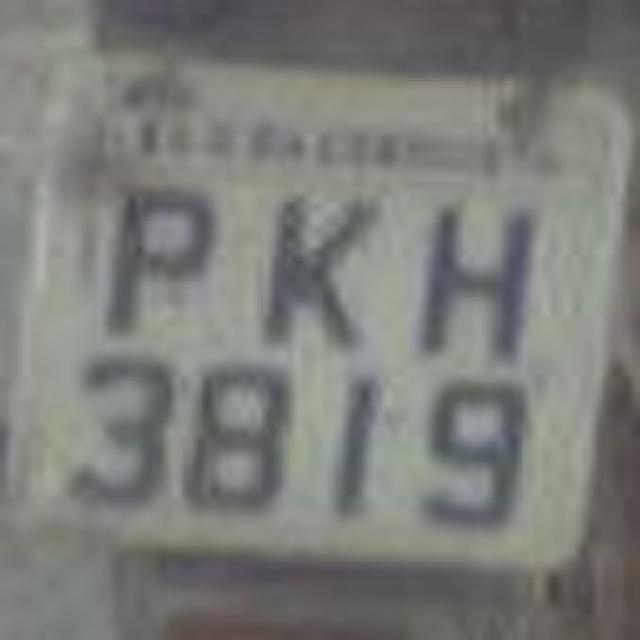1: (304, 344, 411, 524)
3: (36, 336, 209, 536)
8: (176, 345, 312, 540)
9: (411, 348, 544, 532)
H: (404, 180, 531, 355)
K: (240, 184, 385, 356)
P: (88, 176, 220, 356)
